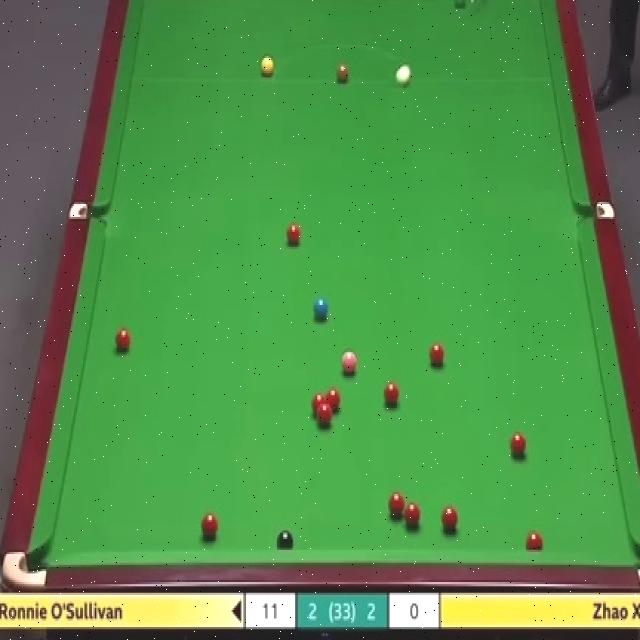black-ball: (276, 527, 295, 551)
blue-ball: (312, 297, 328, 323)
brown-ball: (334, 60, 350, 85)
green-ball: (450, 0, 467, 9)
pink-ball: (341, 346, 358, 376)
red-ball: (403, 500, 422, 532), (113, 328, 132, 358), (428, 341, 446, 371), (440, 506, 458, 534), (508, 430, 526, 458), (388, 490, 405, 519), (202, 512, 219, 538), (383, 381, 399, 408), (326, 388, 342, 415), (286, 222, 302, 247), (526, 530, 544, 551), (318, 406, 332, 427), (312, 393, 326, 414)
white-ball: (395, 64, 411, 86)
yellow-ball: (258, 55, 274, 76)
